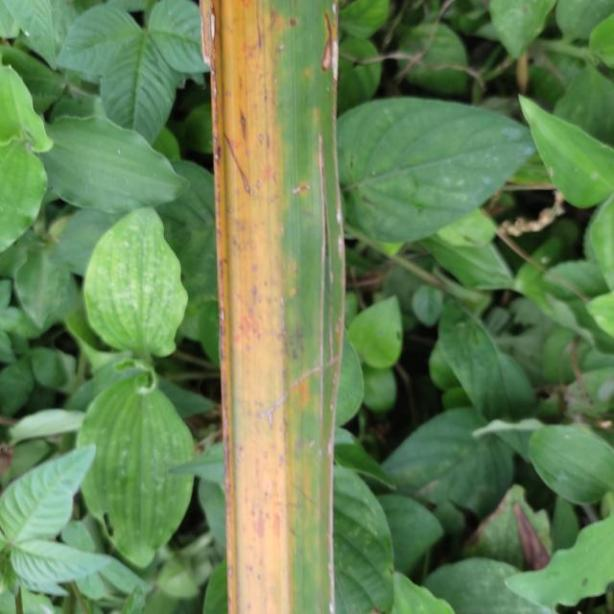Megnesium: (208, 0, 348, 614)
